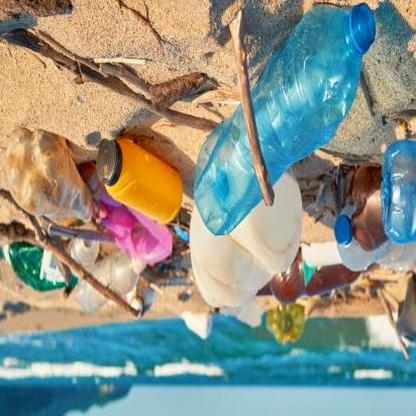plastic bottle: (193, 4, 376, 237), (188, 169, 303, 308), (6, 132, 93, 220), (97, 136, 182, 224), (333, 207, 416, 273), (63, 251, 146, 312), (62, 231, 102, 269)
